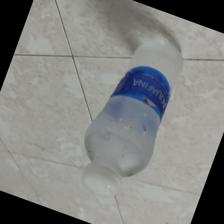Aquafina: (81, 34, 183, 199)
